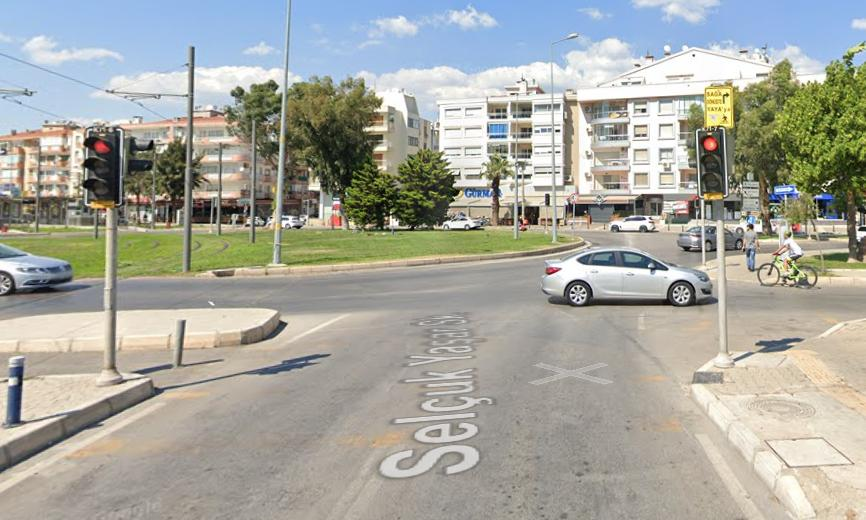redlight: (84, 129, 123, 207), (694, 125, 730, 198)
